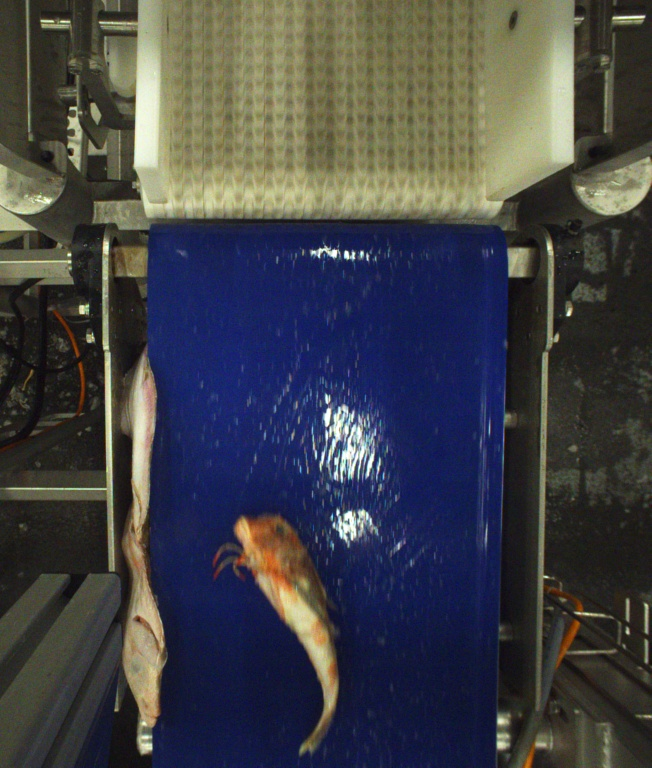GUU: (207, 514, 343, 761)
